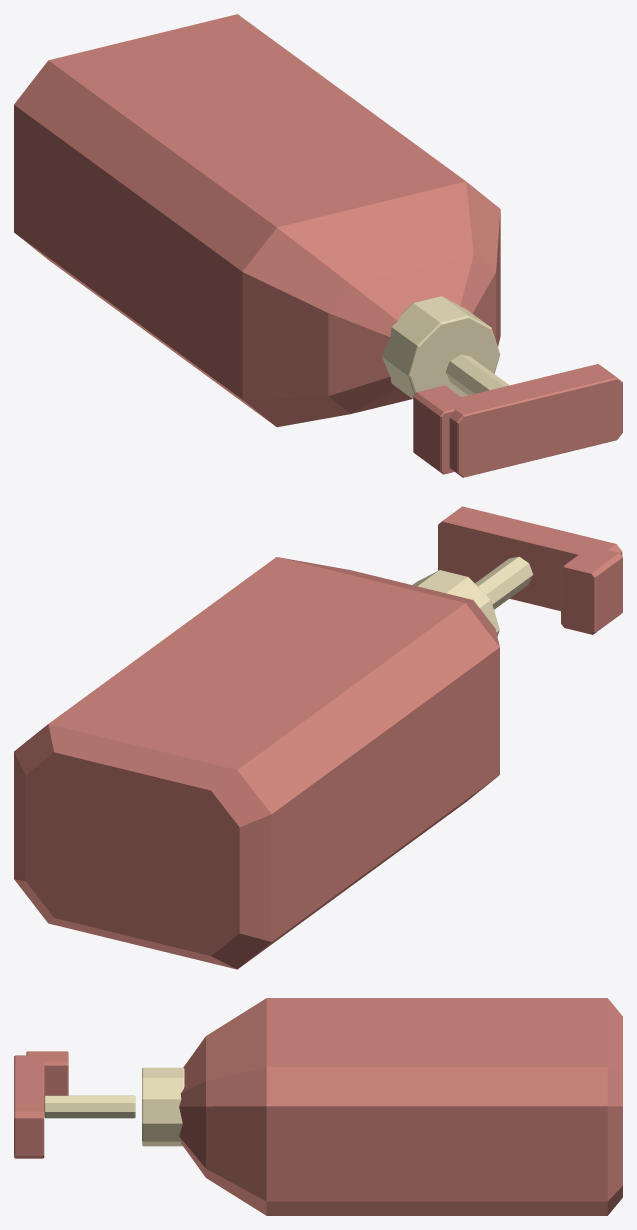
Rendered from hand_soap.glb.
3 renders of one model, top to bottom at view 1: azimuth 30°, elevation 25°; view 2: azimuth 150°, elevation 25°; view 3: azimuth 270°, elevation 25°, orthographic. The views are drawn at different scales.
Parts seen in each view (by area): view 1: hand_soap; view 2: hand_soap; view 3: hand_soap.
Boxes of the visible parts, box(x1,y1,x2,y2) form: hand_soap: box(14, 14, 622, 477); hand_soap: box(14, 506, 622, 969); hand_soap: box(14, 998, 622, 1215).
Bounding box in the file's own units: 0.073 × 0.0564 × 0.2.
